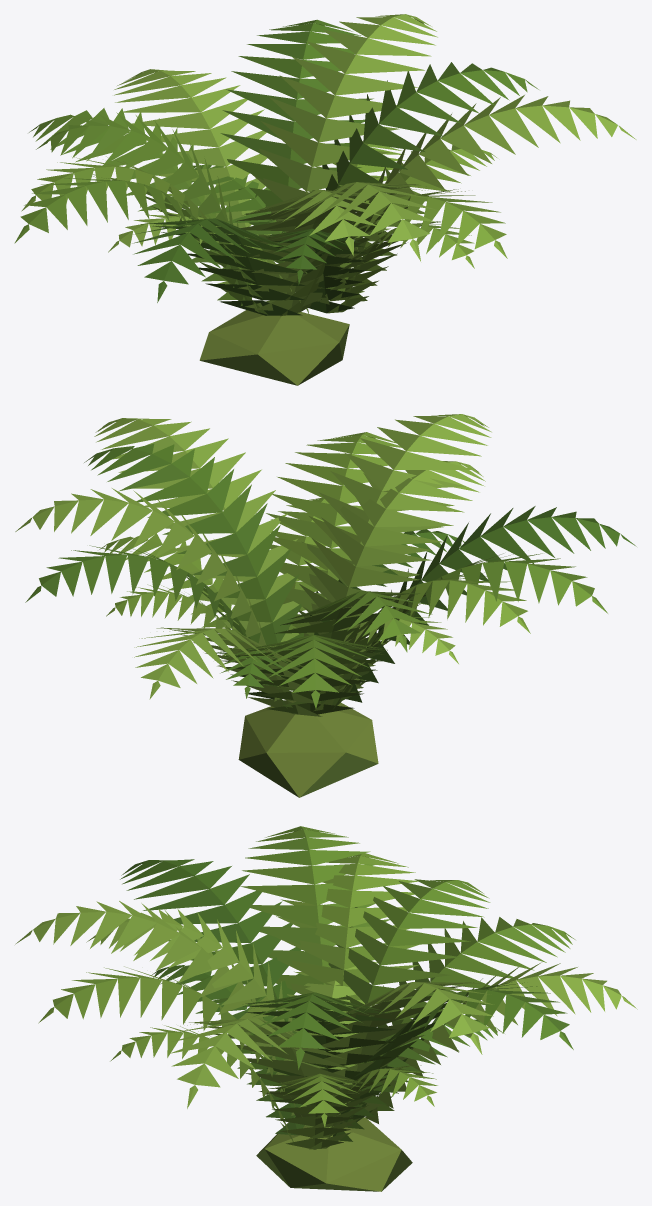
Rendered from wf_fern.glb.
3 renders of one model, top to bottom at view 1: azimuth 30°, elevation 25°; view 2: azimuth 150°, elevation 25°; view 3: azimuth 270°, elevation 25°, orthographic.
Parts seen in each view (by area): view 1: wf_fern; view 2: wf_fern; view 3: wf_fern.
Boxes of the visible parts, x1,y1,x2,y2 form: wf_fern: (14,14,636,385); wf_fern: (15,414,636,797); wf_fern: (15,826,637,1191).
Size of the model in its own units: 1.63 by 0.7252 by 1.55.
